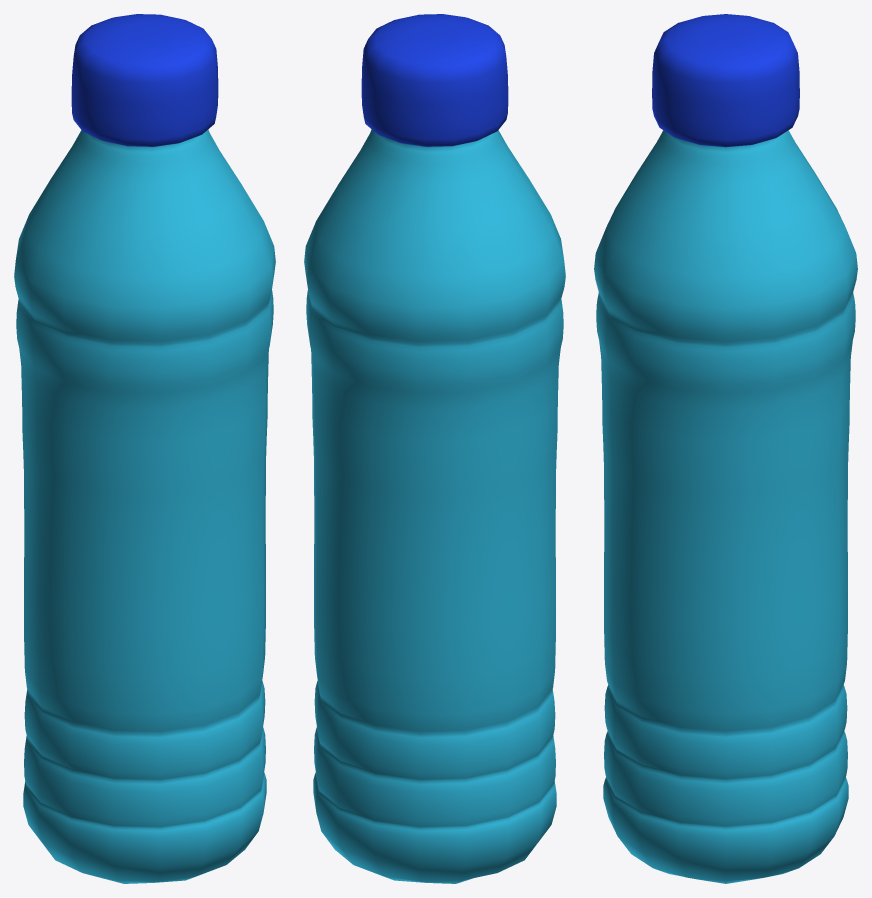
The model's file is Garrafa_Agua.fbx.
The picture shows the model from 3 angles, left to right: view 1: azimuth 30°, elevation 25°; view 2: azimuth 150°, elevation 25°; view 3: azimuth 270°, elevation 25°; orthographic projection.
Visible parts, largest first — view 1: Garrafa_Agua; view 2: Garrafa_Agua; view 3: Garrafa_Agua.
Boxes of the visible parts, left/top/right/bottom form: Garrafa_Agua: left=14, top=14, right=275, bottom=883; Garrafa_Agua: left=304, top=14, right=565, bottom=883; Garrafa_Agua: left=594, top=14, right=857, bottom=883.
Bounding box in the file's own units: 8.33 × 28.76 × 8.33.
